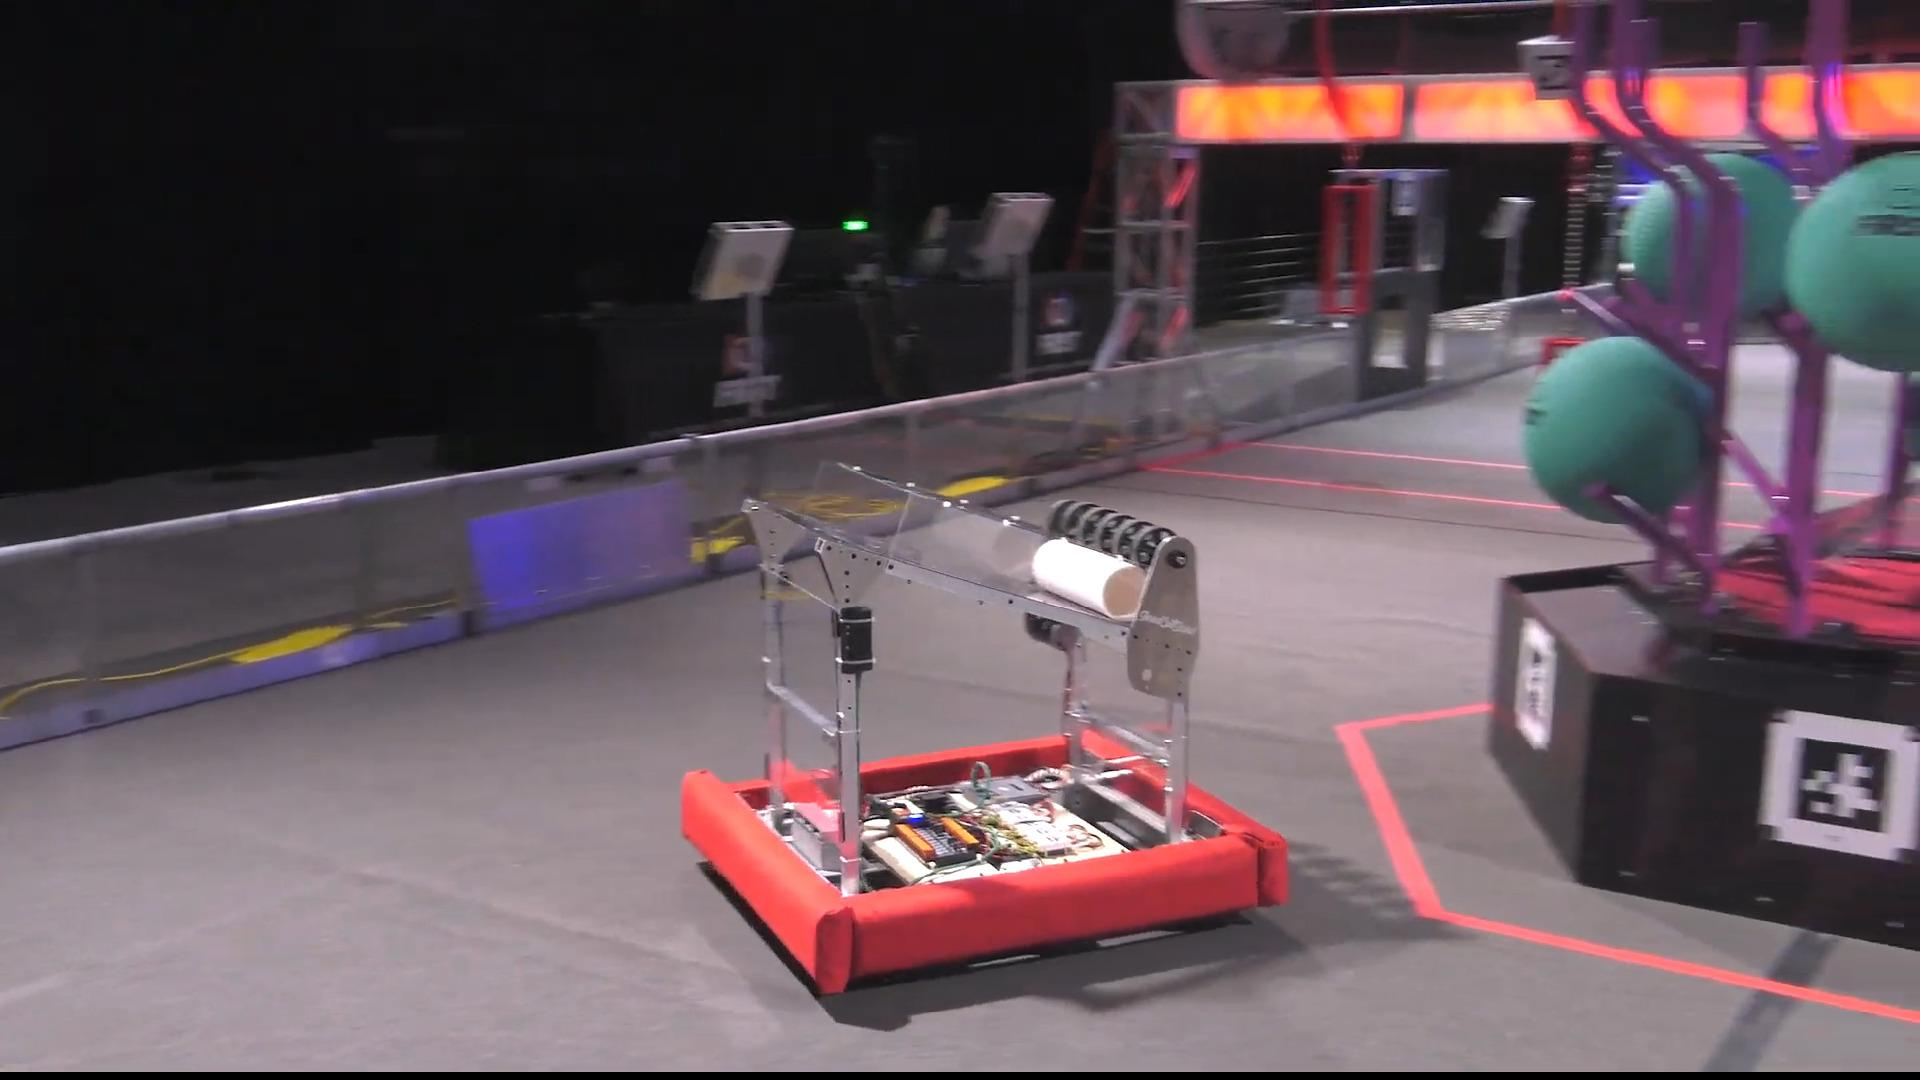coral: (1029, 535, 1145, 622)
